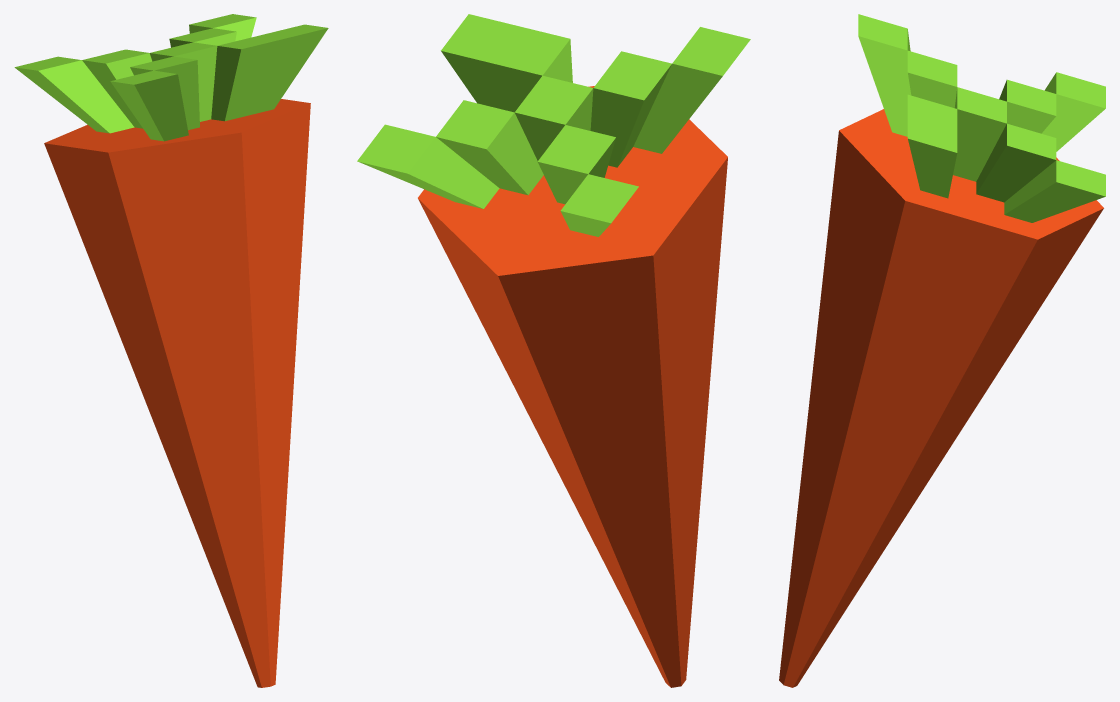
The model's file is zanahoria.fbx.
3 renders of one model, left to right at view 1: azimuth 30°, elevation 25°; view 2: azimuth 150°, elevation 25°; view 3: azimuth 270°, elevation 25°, orthographic. The views are drawn at different scales.
Parts seen in each view (by area): view 1: Cone.001; view 2: Cone.001; view 3: Cone.001.
Part boxes in pixels (<box>): Cone.001: <box>14,14,328,687</box>; Cone.001: <box>357,14,750,687</box>; Cone.001: <box>779,14,1105,687</box>.
Bounding box in the file's own units: 26.14 × 67.96 × 32.36.
